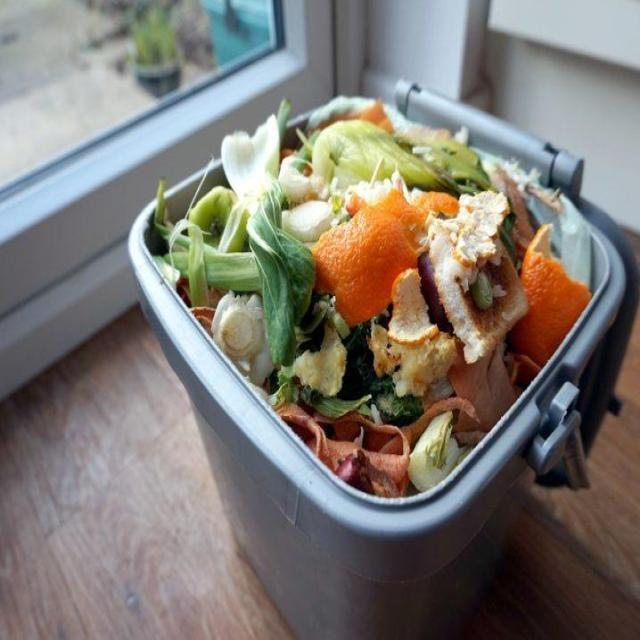Garbage: (152, 96, 591, 497)
